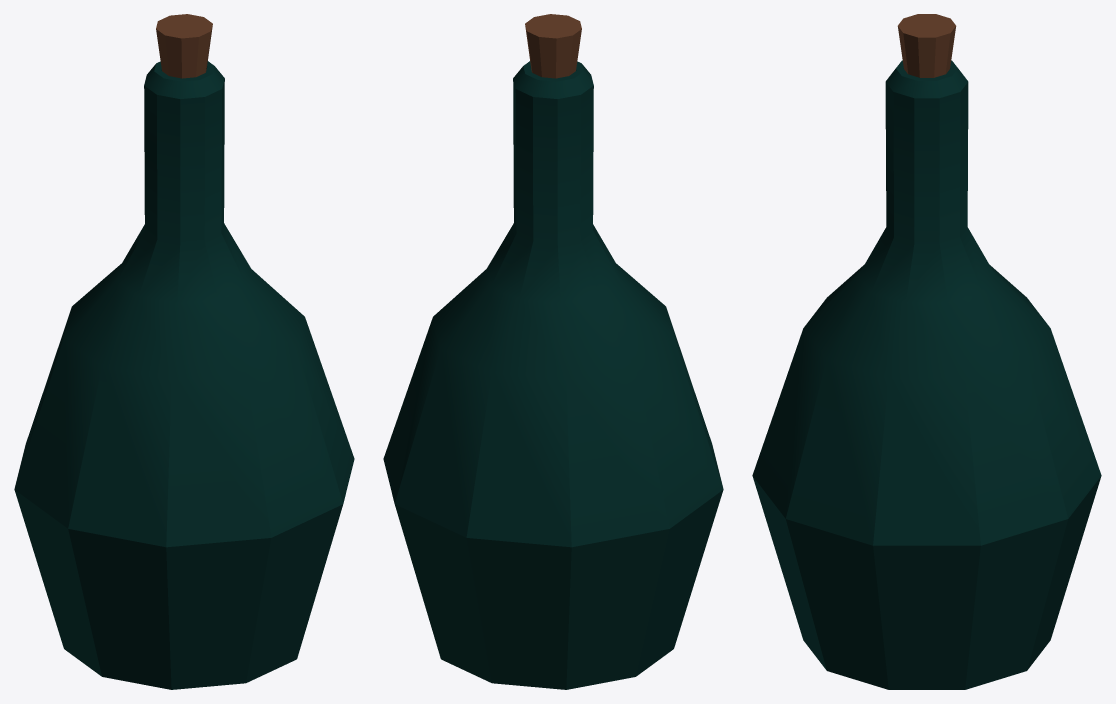
Rendered from Bottiglia 2.fbx.
The picture shows the model from 3 angles, left to right: view 1: azimuth 30°, elevation 25°; view 2: azimuth 150°, elevation 25°; view 3: azimuth 270°, elevation 25°; orthographic projection.
Parts seen in each view (by area): view 1: Bottle 3.002; view 2: Bottle 3.002; view 3: Bottle 3.002.
Boxes of the visible parts, x1=… form: Bottle 3.002: x1=14, y1=14, x2=354, y2=689; Bottle 3.002: x1=383, y1=14, x2=723, y2=689; Bottle 3.002: x1=752, y1=14, x2=1101, y2=689.
Size of the model in its own units: 42.49 by 86.73 by 44.67.
